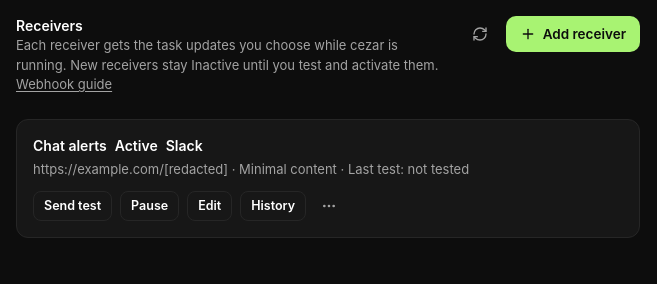
Test: project webhook settings › hides signing key actions for slack.v1 receivers
expect the heading "Chat alerts Active Slack" is shown: met, box [33,136,203,154]
expect the button "Send test" is shown: met, box [33,191,112,221]
Press the mouse on the button named "More actions for Chat alerts" at x=329, y=206, box [314,191,344,221]
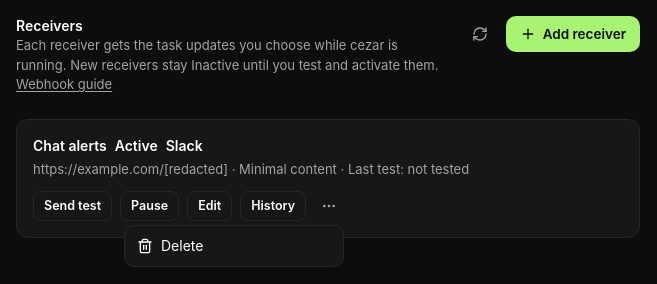
expect the menu items read "Delete", in this order: met, box [137,237,203,254]
